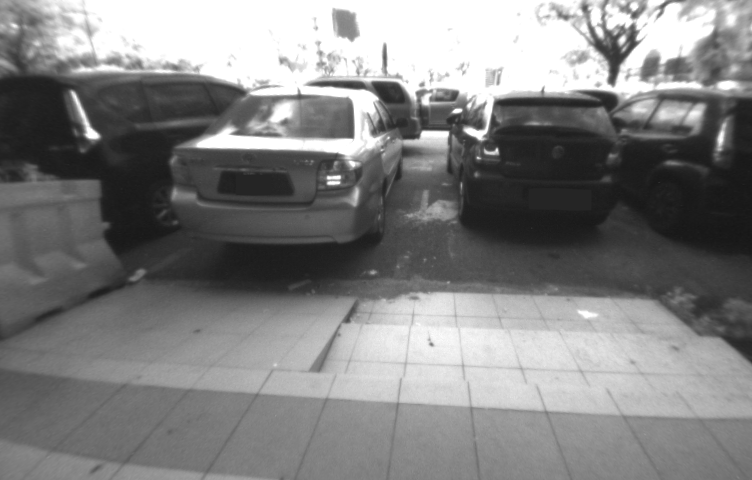down_steps: (326, 287, 748, 395)
mixed_gradient: (283, 281, 394, 388)
